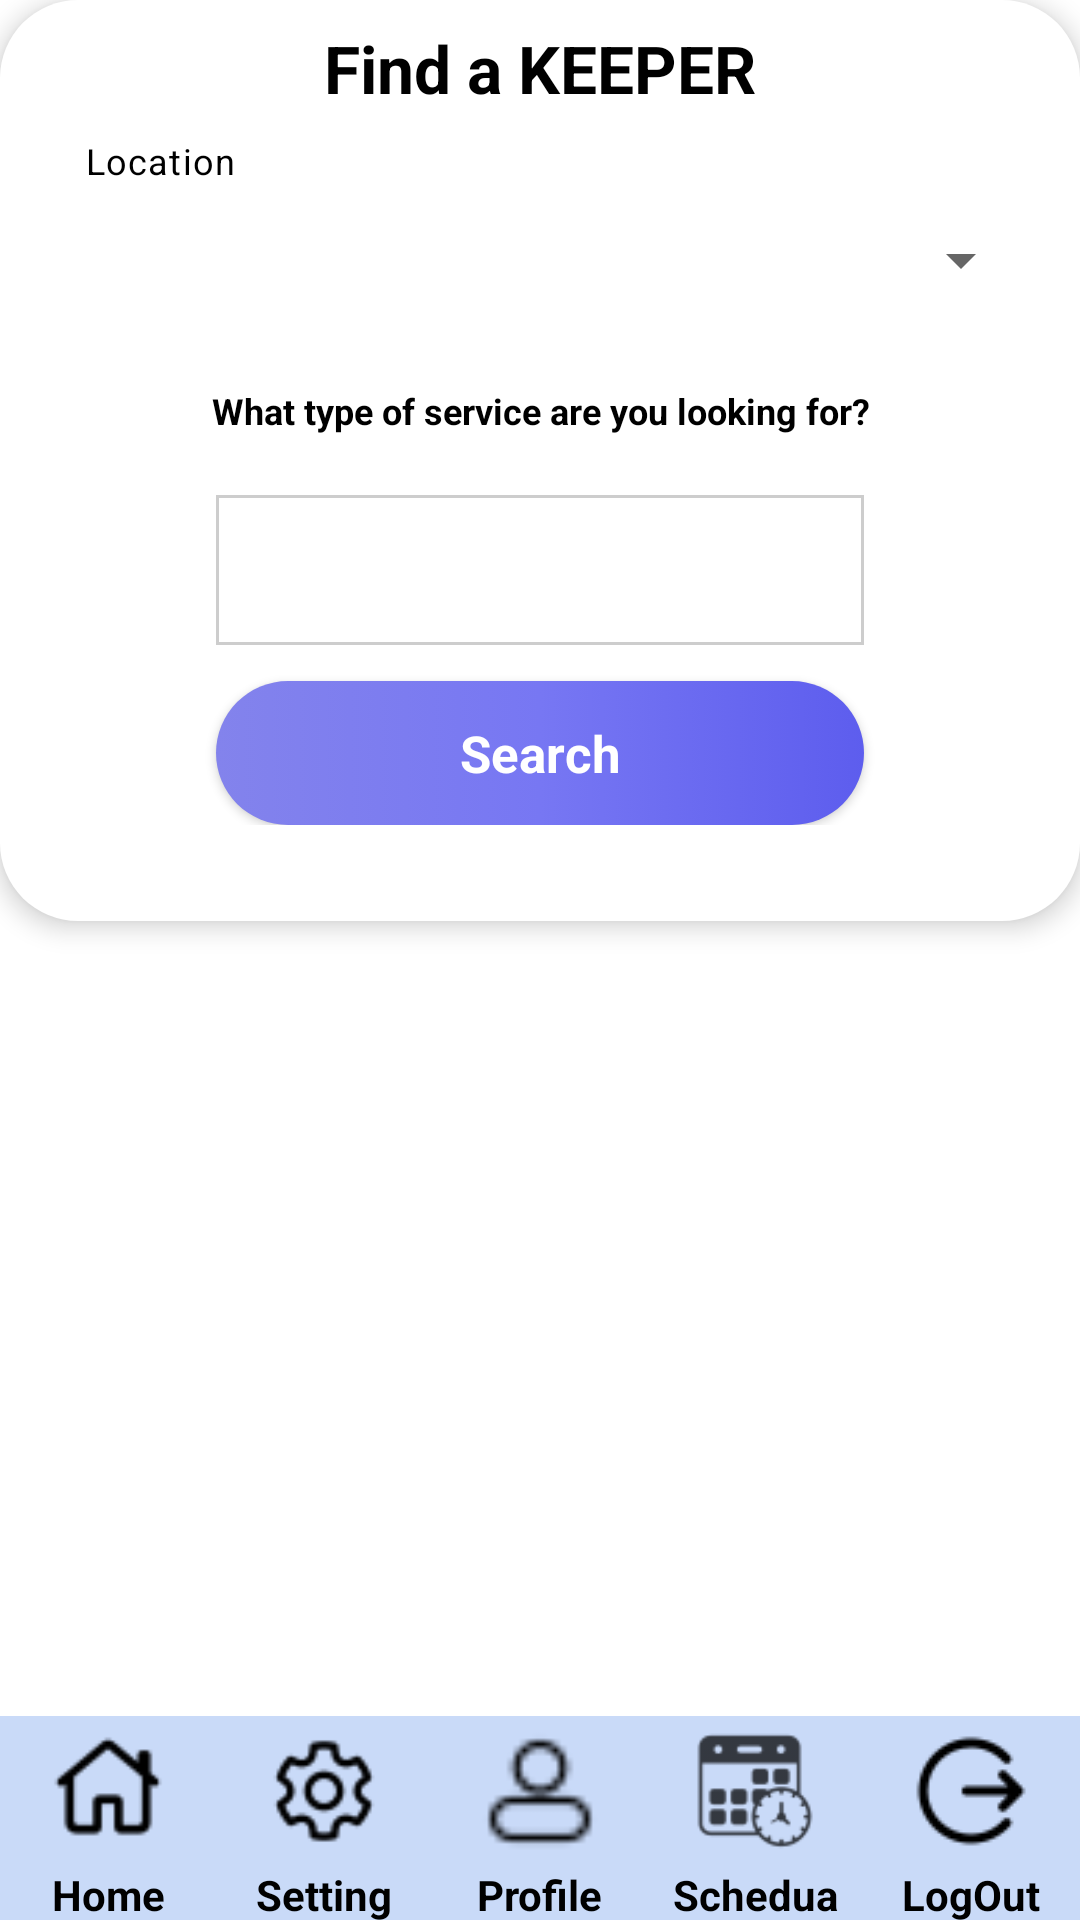

Icons on this 1080 × 1920 Android screen, each with the point to tap as (x=x, y=y):
user: (x=540, y=1791)
